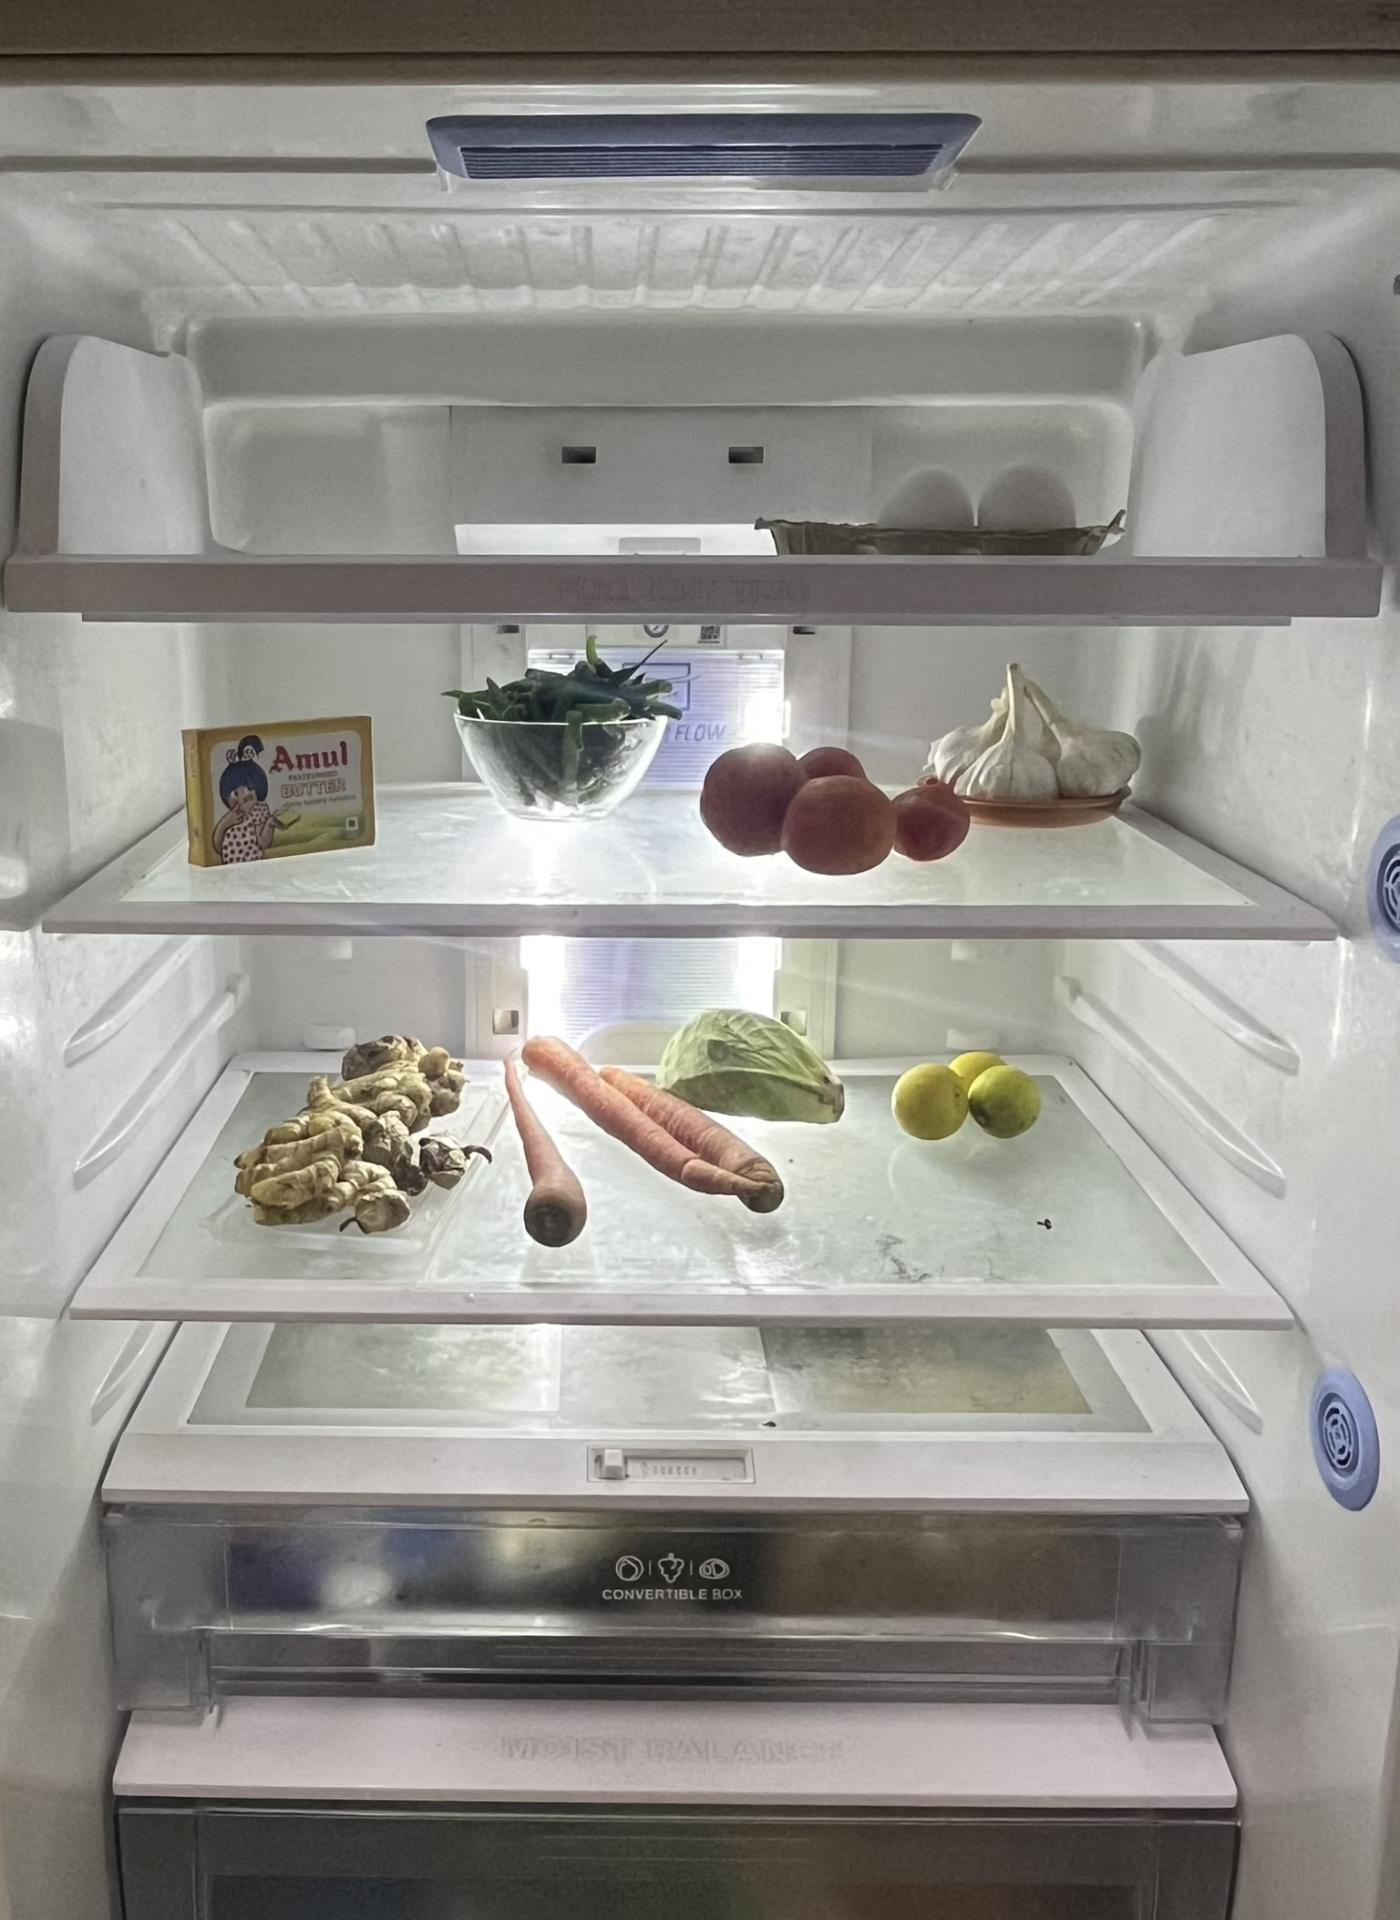butter: (186, 705, 379, 872)
cabbage: (660, 1012, 851, 1124)
carrots: (507, 1043, 792, 1237)
chillies: (458, 650, 675, 806)
egg: (881, 456, 1066, 532)
garlic: (926, 668, 1133, 802)
ginger: (236, 1039, 471, 1234)
lemon: (887, 1038, 1048, 1145)
tomato: (698, 748, 974, 877)
